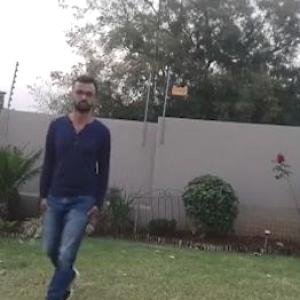follow: (48, 59, 144, 299)
